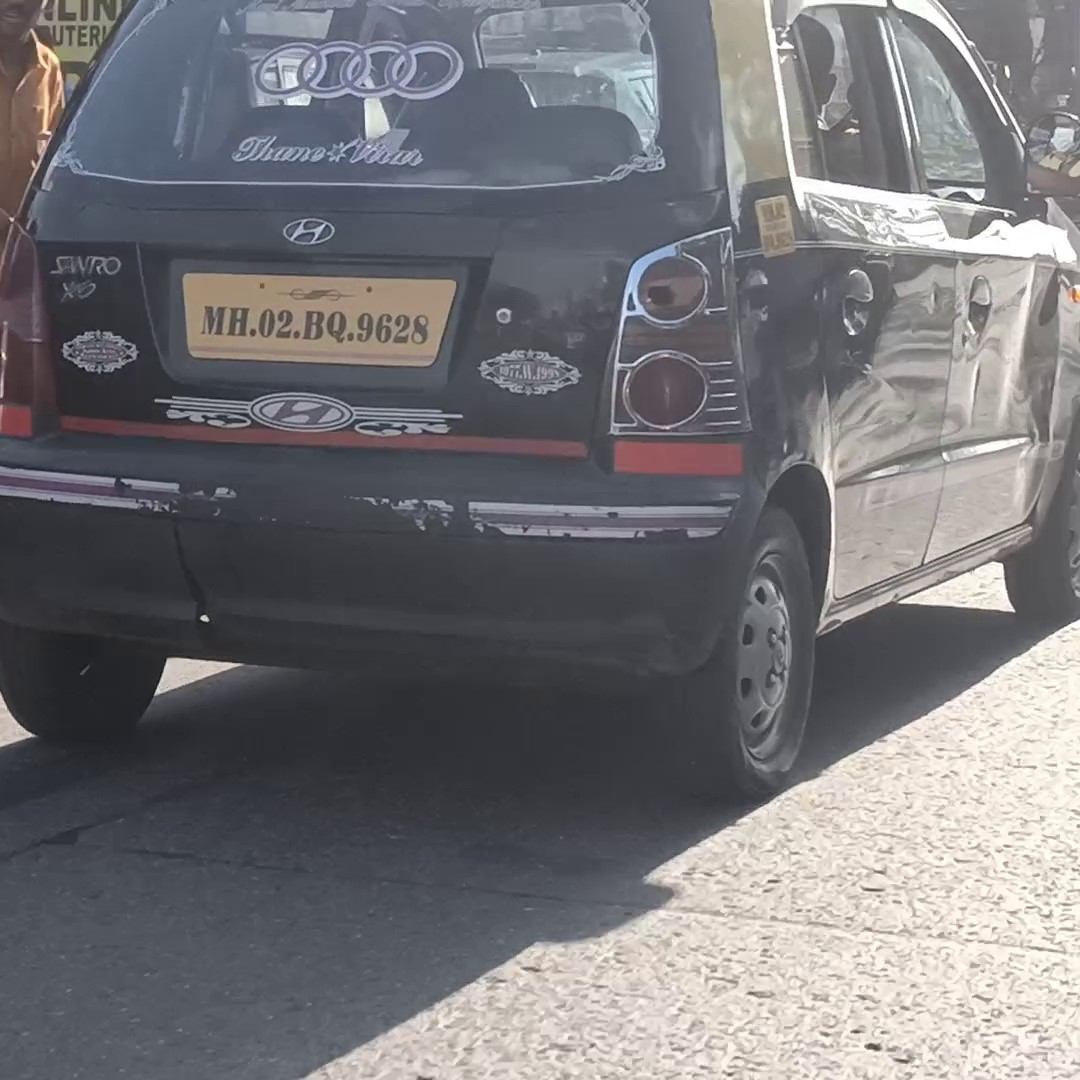MH02BQ9628: (179, 273, 456, 367)
